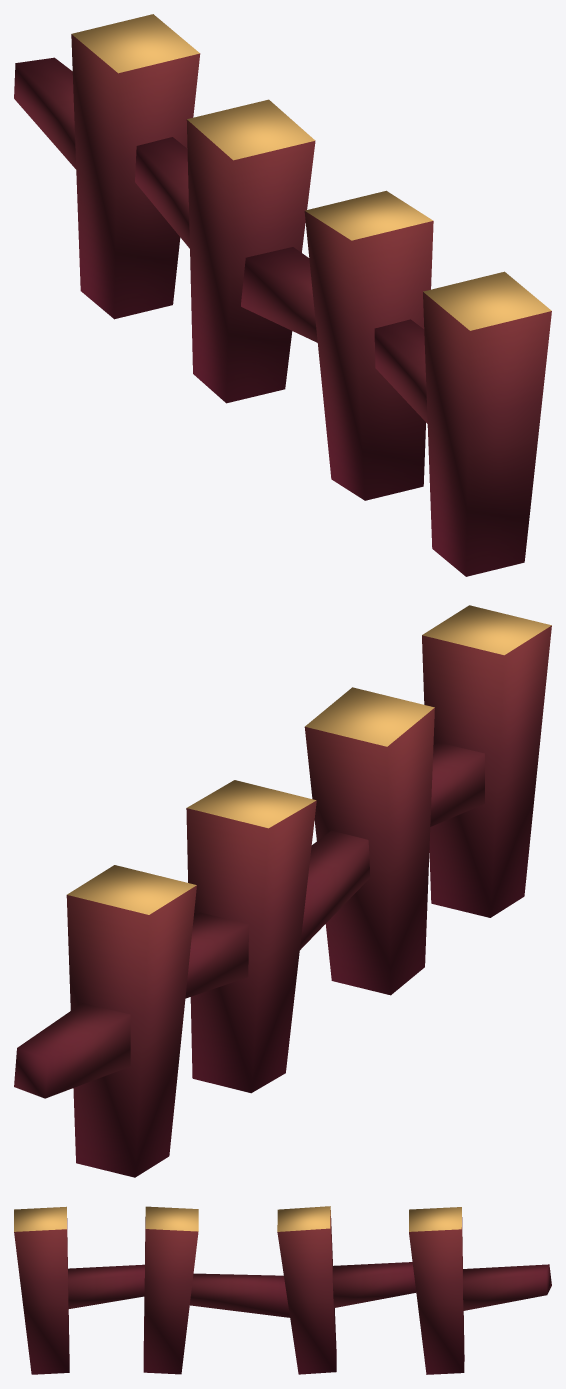
File: fence-straight2.fbx
3 renders of one model, top to bottom at view 1: azimuth 30°, elevation 25°; view 2: azimuth 150°, elevation 25°; view 3: azimuth 270°, elevation 25°, orthographic. The views are drawn at different scales.
Parts seen in each view (by area): view 1: Cylinder.023; view 2: Cylinder.023; view 3: Cylinder.023.
Part boxes in pixels (x1,y1,x2,y2): Cylinder.023: [14, 14, 551, 576]; Cylinder.023: [14, 605, 551, 1177]; Cylinder.023: [14, 1206, 551, 1374].
Size of the model in its own units: 4.12 by 12.47 by 40.69.
